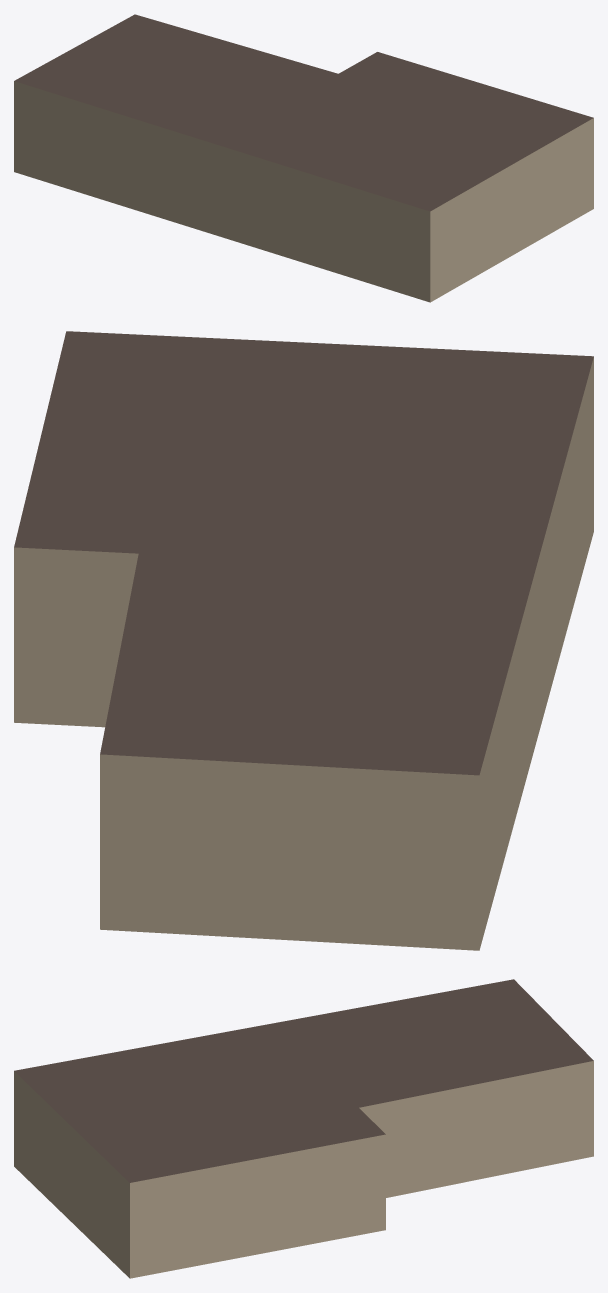
3 views of the same model, one above another, from view 1: azimuth 30°, elevation 25°; view 2: azimuth 150°, elevation 25°; view 3: azimuth 270°, elevation 25° (orthographic). The views are drawn at different scales.
Visible parts, largest first — view 1: HP-w369238009; view 2: HP-w369238009; view 3: HP-w369238009.
Boxes of the visible parts, x1=… form: HP-w369238009: x1=14, y1=14, x2=593, y2=302; HP-w369238009: x1=14, y1=331, x2=593, y2=950; HP-w369238009: x1=14, y1=979, x2=593, y2=1278.
Size of the model in its own units: 41.1 by 9 by 49.44.
